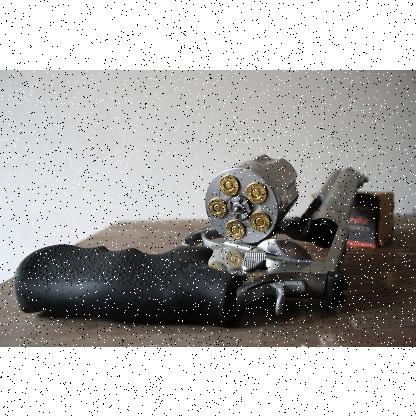gun: (13, 151, 369, 325)
